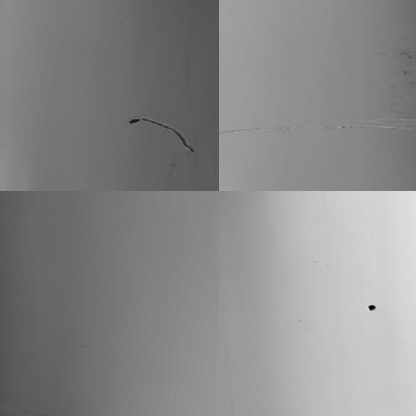fengxi: (128, 113, 194, 152)
kongdong: (362, 301, 377, 313)
